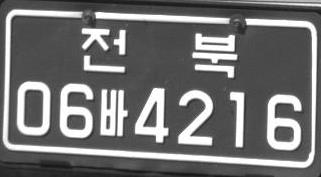0: (15, 79, 51, 136)
1: (223, 89, 256, 148)
2: (177, 89, 213, 146)
4: (134, 87, 168, 142)
6: (58, 82, 94, 139), (265, 94, 301, 151)
바: (100, 88, 128, 136)
전북_D: (81, 26, 238, 80)
